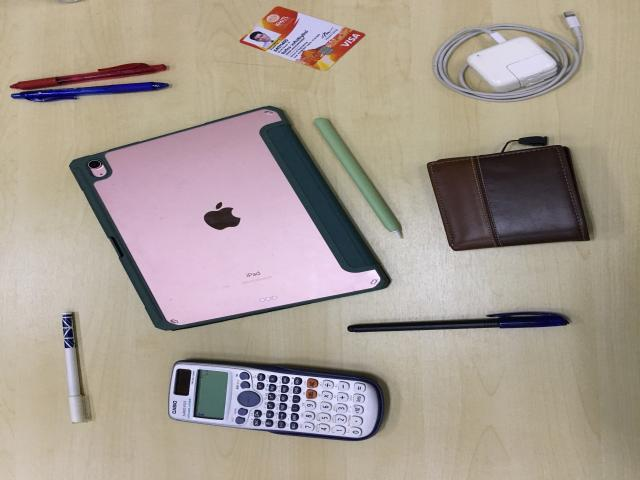Pen: (347, 312, 571, 335), (10, 63, 167, 89), (60, 312, 94, 425), (12, 82, 168, 101)
Wallet: (426, 147, 593, 252)
wire: (425, 9, 589, 106)
